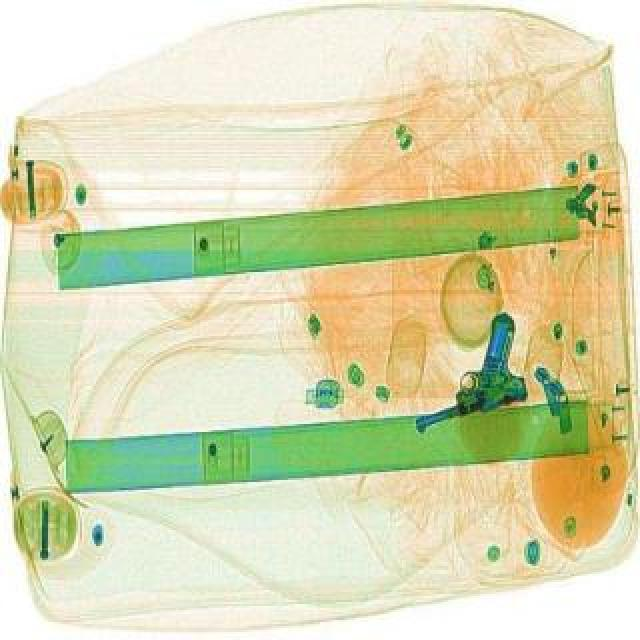gun: (388, 316, 548, 444)
